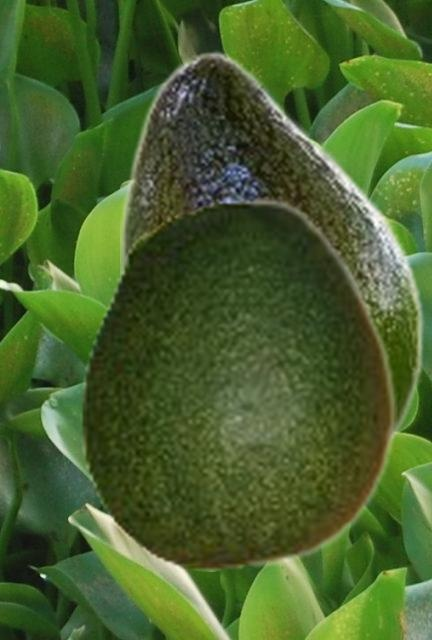avocado: (120, 50, 424, 444), (79, 197, 396, 570)
